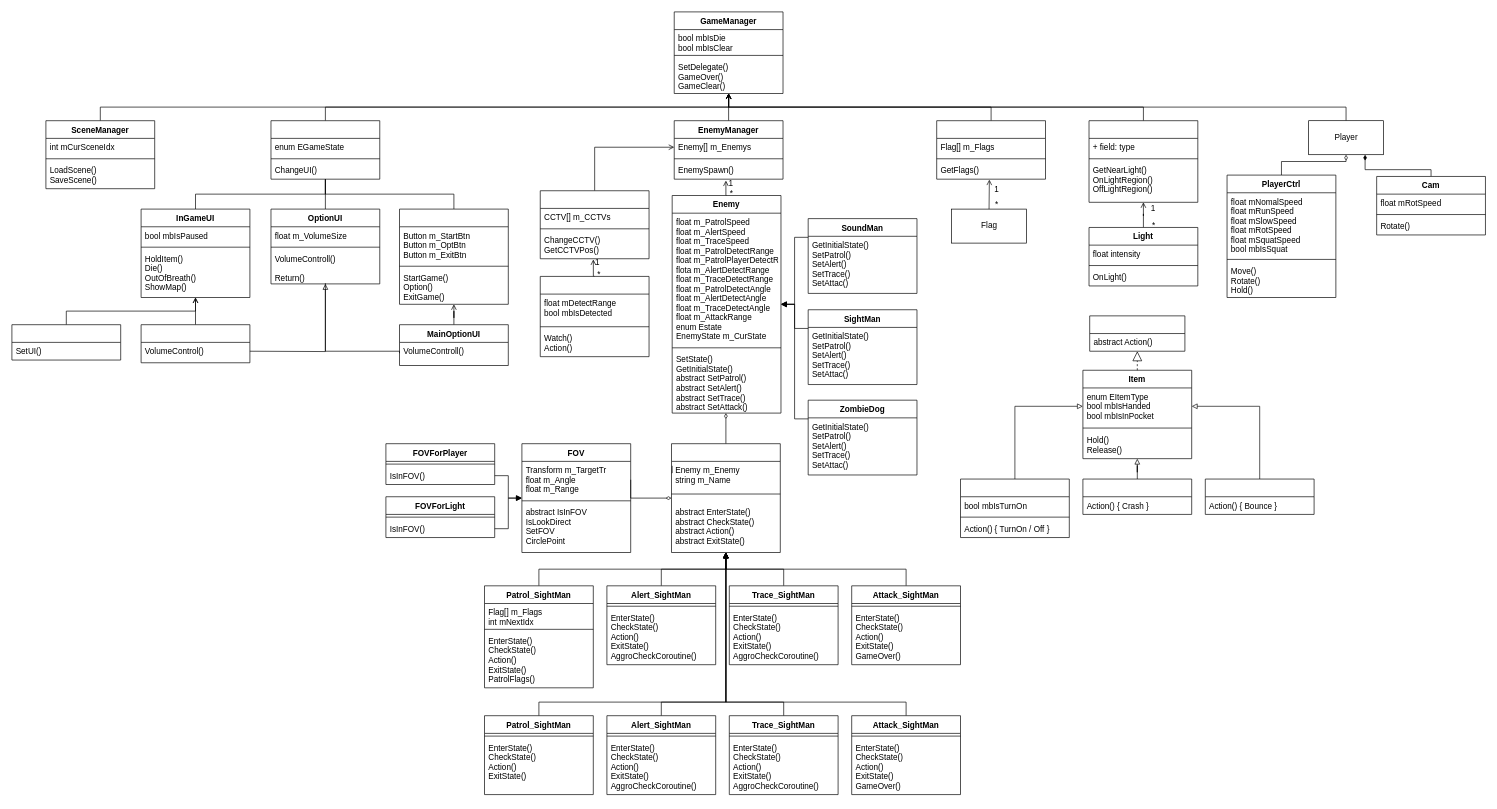
Image size: 1497x809. Some labels were removed from this diagram. Here are the shapes that lost their labels. From the top down, the box of each, then its label:
(270, 120, 380, 179): UIManager
(936, 120, 1046, 179): FlagManager
(1088, 120, 1198, 202): LightingManager
(540, 190, 649, 259): CCTVManager
(399, 208, 508, 304): MainMenuUI
(540, 276, 649, 357): CCTV
(1089, 315, 1185, 351): ICatch
(11, 324, 121, 360): StoryUI
(140, 324, 250, 363): PauseUI
(671, 443, 780, 552): EnemyState
(960, 478, 1069, 538): Flash
(1082, 478, 1192, 514): Bottle
(1205, 478, 1314, 514): Can
